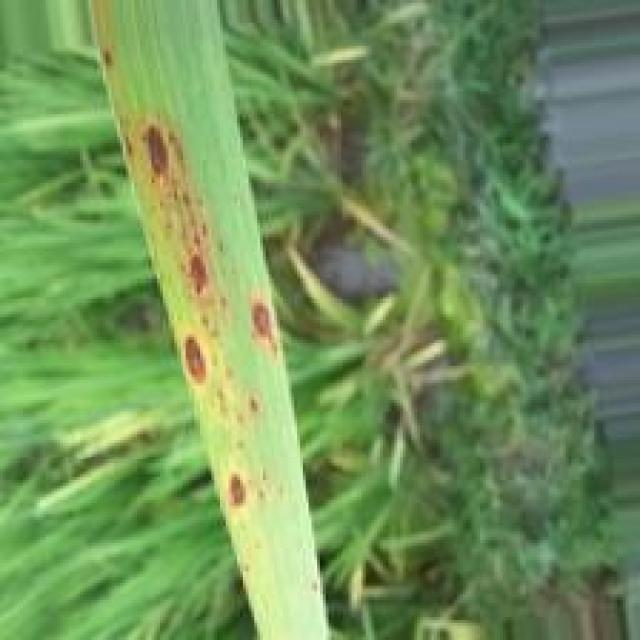Brown_Spot: (248, 299, 283, 361), (178, 333, 213, 391), (183, 247, 215, 303), (146, 121, 174, 181), (227, 469, 252, 512), (100, 47, 116, 68)
